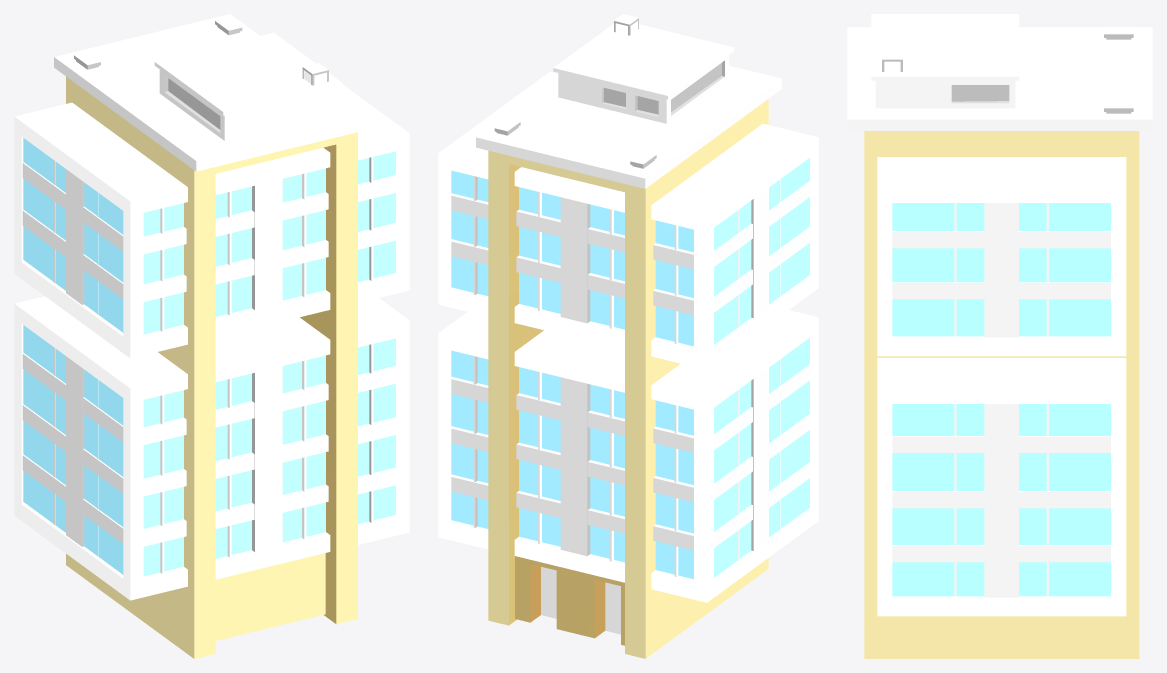
Rendered from apartment 1.009.glb.
3 renders of one model, left to right at view 1: azimuth 30°, elevation 25°; view 2: azimuth 150°, elevation 25°; view 3: azimuth 270°, elevation 25°, orthographic. The views are drawn at different scales.
Parts seen in each view (by area): view 1: apartment 1.009(Clone); view 2: apartment 1.009(Clone); view 3: apartment 1.009(Clone).
Part boxes in pixels (box(x1,y1,x2,y2)): apartment 1.009(Clone): box(14, 14, 409, 658); apartment 1.009(Clone): box(438, 14, 818, 658); apartment 1.009(Clone): box(847, 14, 1152, 658).
Size of the model in its own units: 13.4 by 25.13 by 11.81.
1 material, 1 textured.
